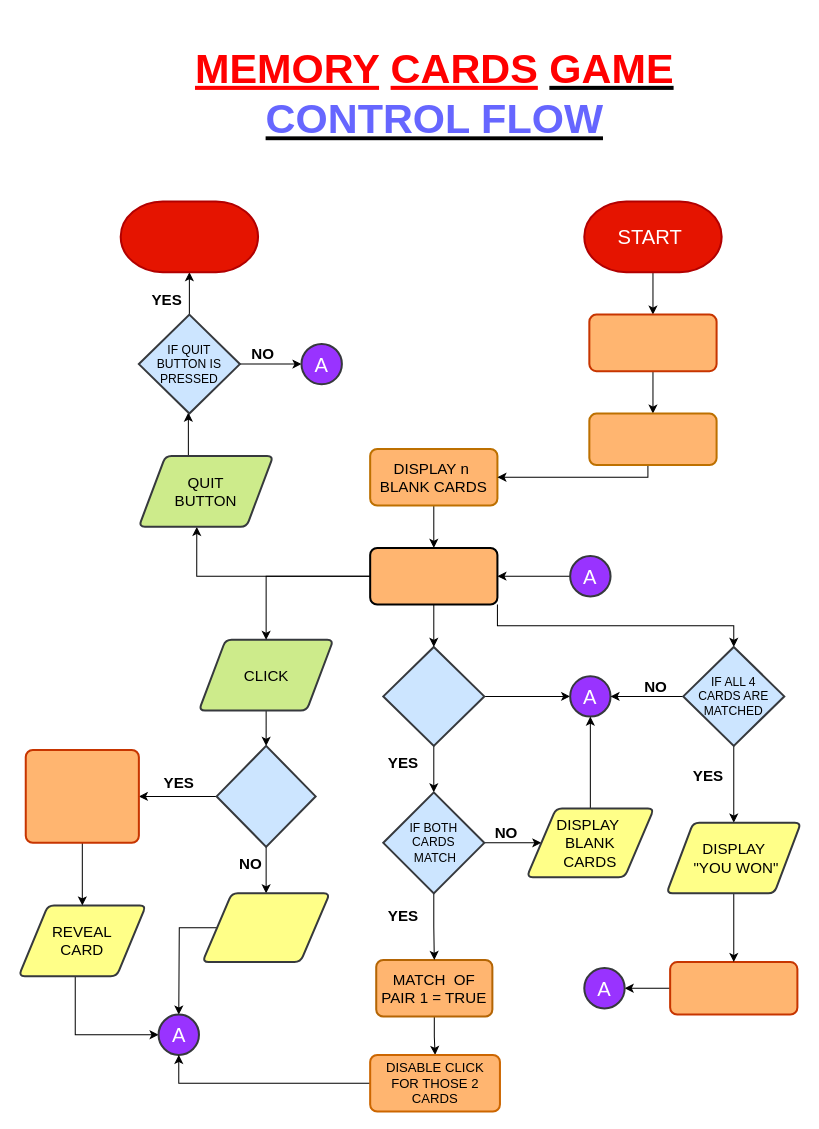
This 819x1129 diagram has some shape labels left out. Here are the shapes that lost their labels. From the top down, the box of each, then its label:
(119, 200, 259, 273): END
(588, 313, 717, 372): INITIALISE PYGAME WINDOW
(588, 412, 717, 466): CARD VARIABLES ASSIGNED
(369, 546, 498, 605): WHILE TRUE LOOP
(382, 645, 485, 746): IF TWO CARDS ARE CLICKED
(24, 748, 139, 843): CLICK VARIABLE OF THAT CARD = TRUE
(215, 744, 316, 847): IF A CARD IS CLICKED
(201, 892, 330, 963): DISPLAY BLANK CARD
(669, 961, 798, 1015): RUN NEXT LEVEL
